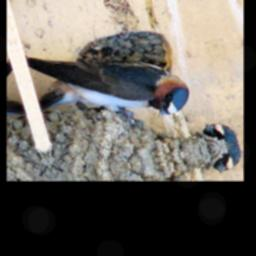Swallow: (25, 22, 196, 139)
